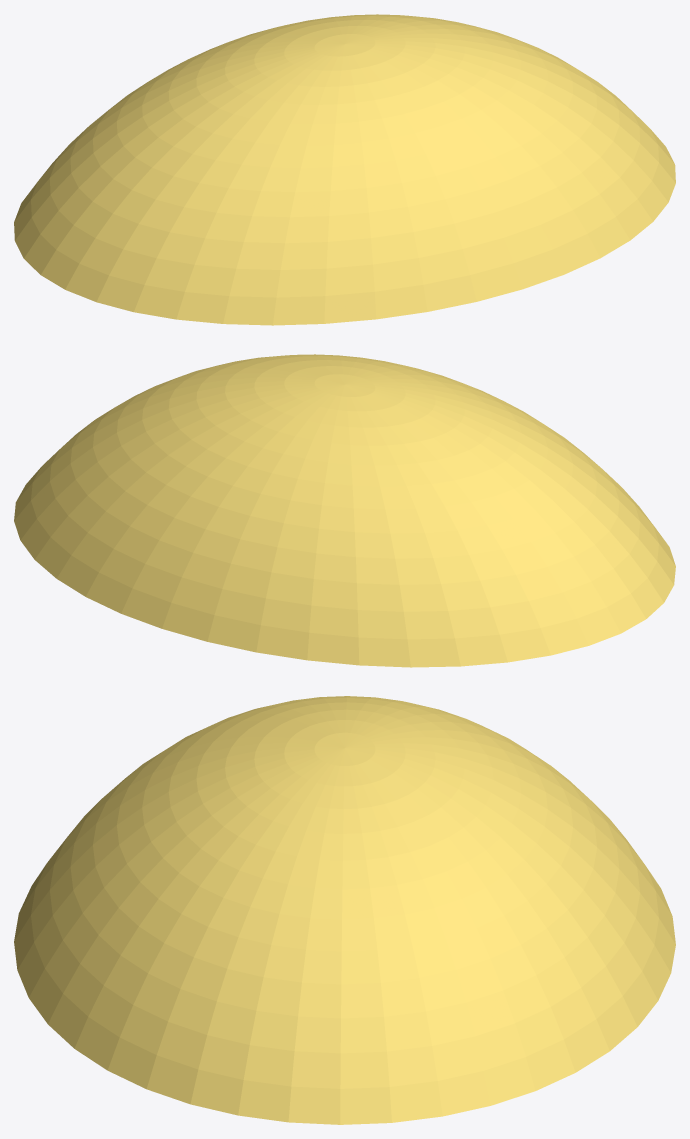
Rendered from sand1.glb.
3 renders of one model, top to bottom at view 1: azimuth 30°, elevation 25°; view 2: azimuth 150°, elevation 25°; view 3: azimuth 270°, elevation 25°, orthographic. The views are drawn at different scales.
Parts seen in each view (by area): view 1: Сфера.001; view 2: Сфера.001; view 3: Сфера.001.
Boxes of the visible parts, box(x1,y1,x2,y2) form: Сфера.001: box(14, 14, 675, 325); Сфера.001: box(14, 354, 675, 667); Сфера.001: box(14, 696, 675, 1124).
Bounding box in the file's own units: 6.49 × 1.63 × 5.
